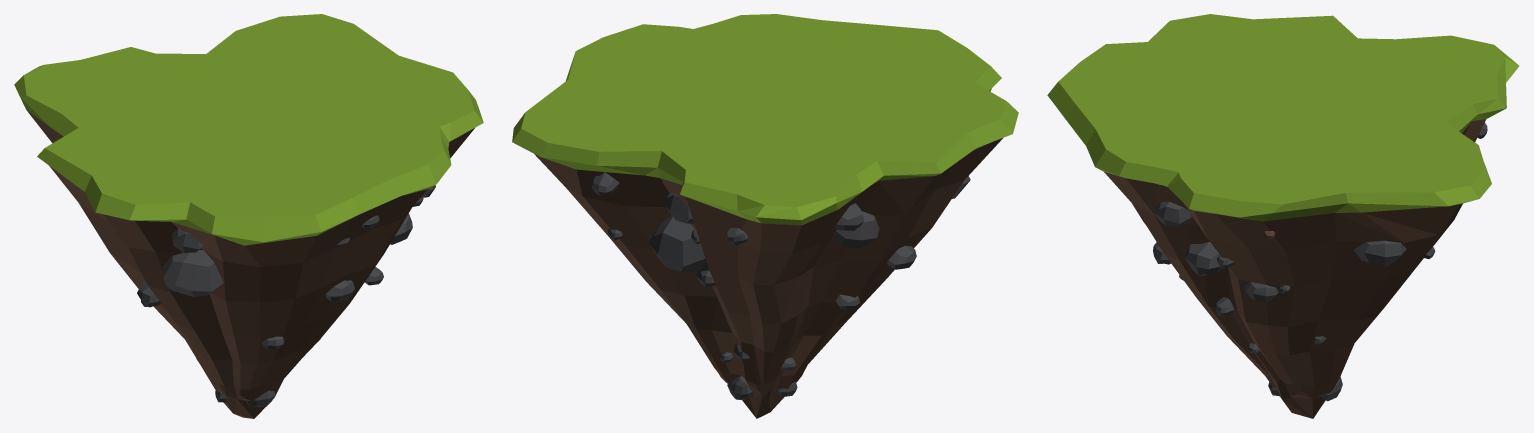
Rendered from Dirtisland.fbx.
3 renders of one model, left to right at view 1: azimuth 30°, elevation 25°; view 2: azimuth 150°, elevation 25°; view 3: azimuth 270°, elevation 25°, orthographic.
Parts seen in each view (by area): view 1: DirtIsland; view 2: DirtIsland; view 3: DirtIsland.
Boxes of the visible parts, <box> form: DirtIsland: <box>14,14,483,418</box>; DirtIsland: <box>512,14,1018,418</box>; DirtIsland: <box>1047,14,1519,418</box>.
Size of the model in its own units: 4936 by 3650 by 5031.
